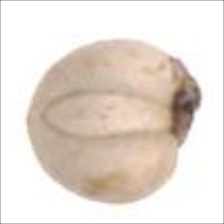L5: (40, 88, 175, 145), (172, 65, 203, 151), (25, 89, 44, 144)
L6: (25, 38, 207, 208)
